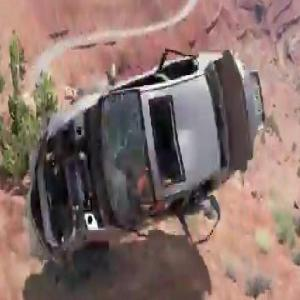fatal: (24, 36, 267, 264)
